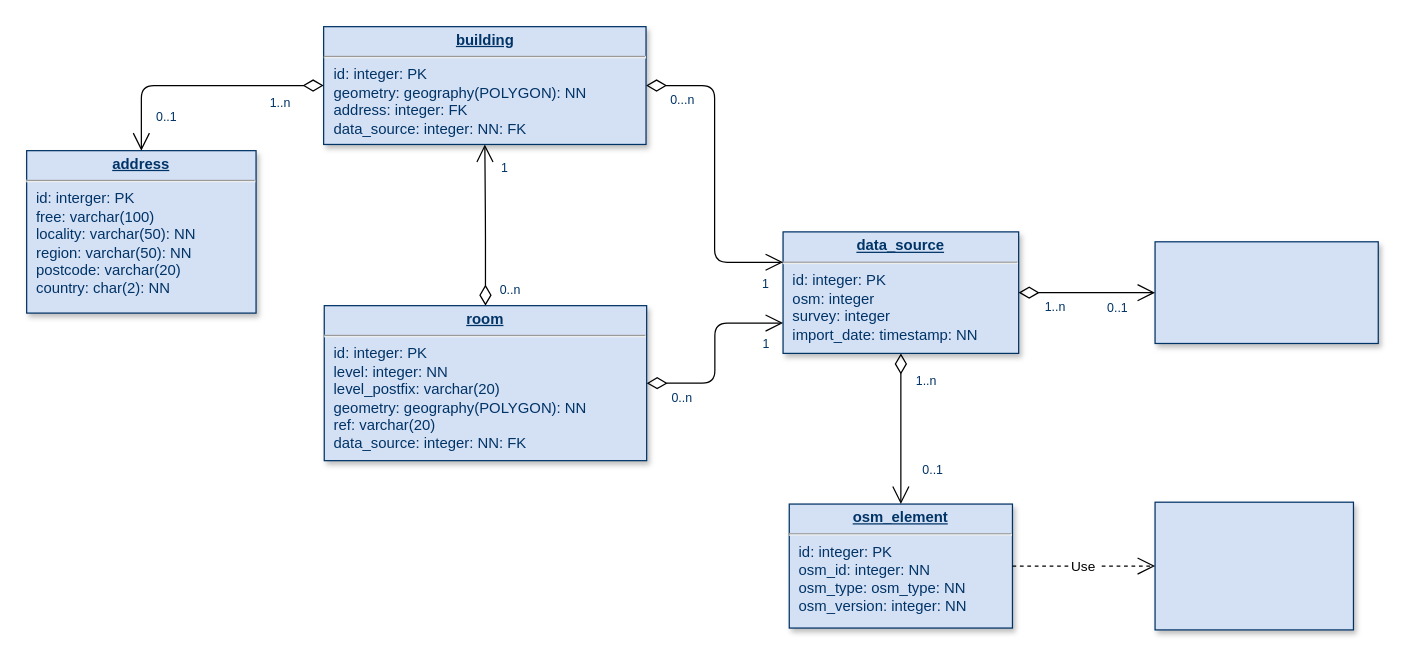
Image size: 1407x661. Some labels were removed from this diagram. The centre of each missing label's shape, as x and y in pixels:
<<enumeration>> osm_type way node relation: point (1255, 567)
survey id: integer: PK surveyor: varchar(50): NN internal: boolean: point (1267, 294)
